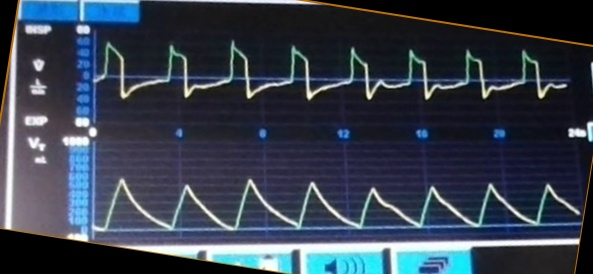Premature_cycling Flow: (98, 39, 567, 120)
Premature_cycling Volume: (97, 174, 579, 236)
